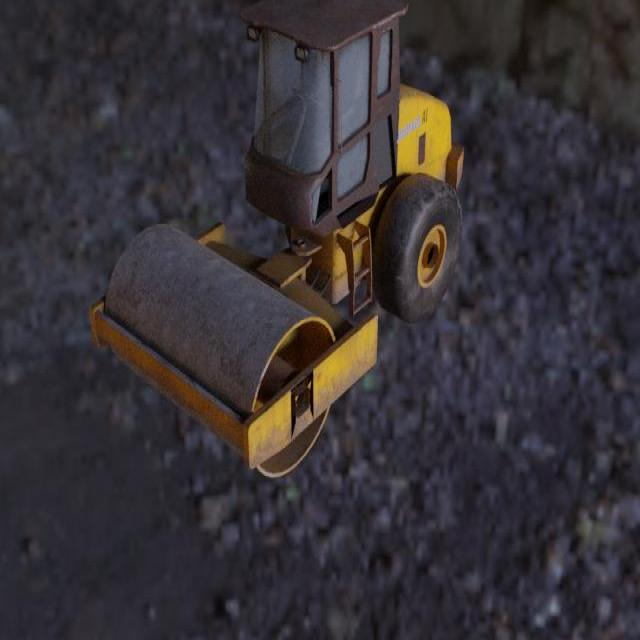Roller: (88, 0, 464, 479)
